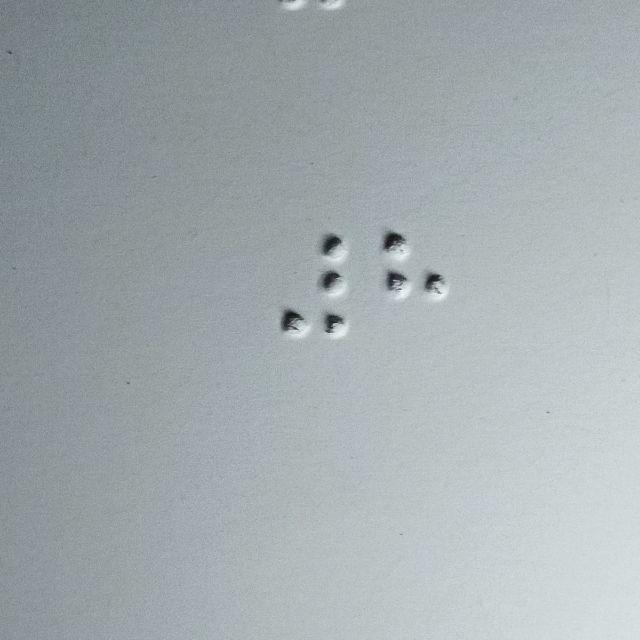8: (382, 231, 450, 345)
number: (275, 230, 348, 344)
